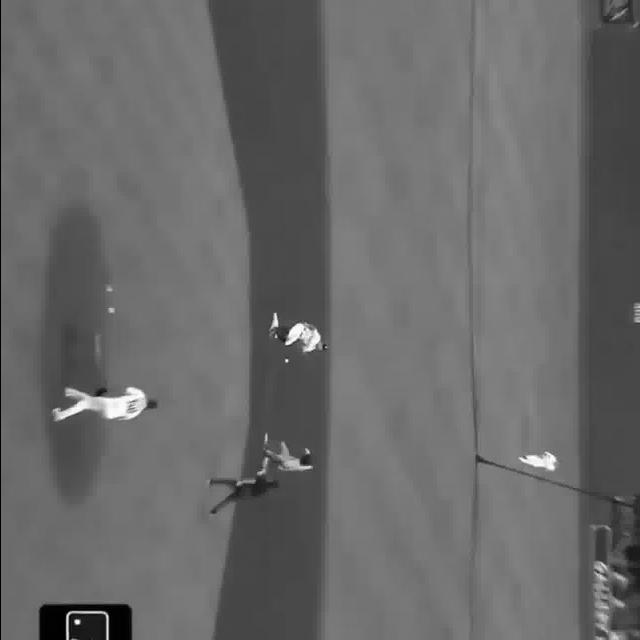base: (272, 312, 276, 332)
baseball: (284, 359, 288, 363)
shoe: (260, 432, 270, 446), (253, 468, 266, 476), (267, 325, 275, 337)
